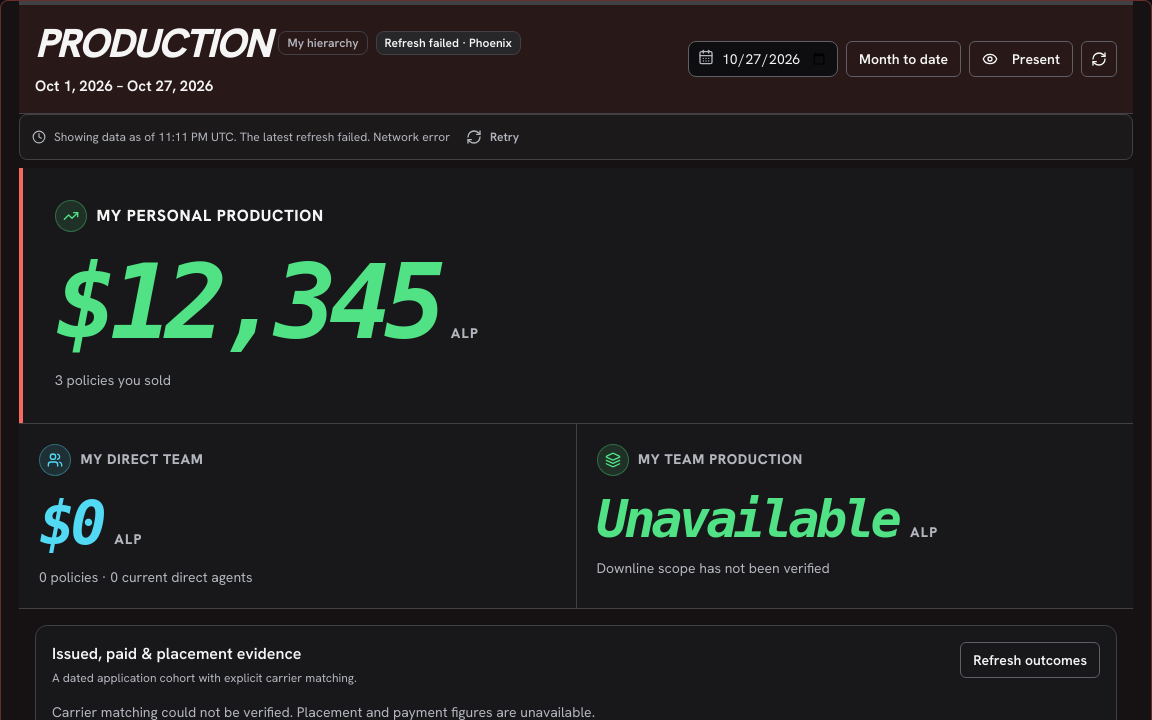
keeps confirmed totals through a failed refresh, labels their age, and recovers on Retry
Expected: the text "Showing data as of" shows "The latest refresh failed", [237, 129, 370, 145]
Expected: the text "$12,345" is shown, [55, 248, 439, 358]
Click the button "Retry" at (493, 137), box [458, 123, 527, 151]
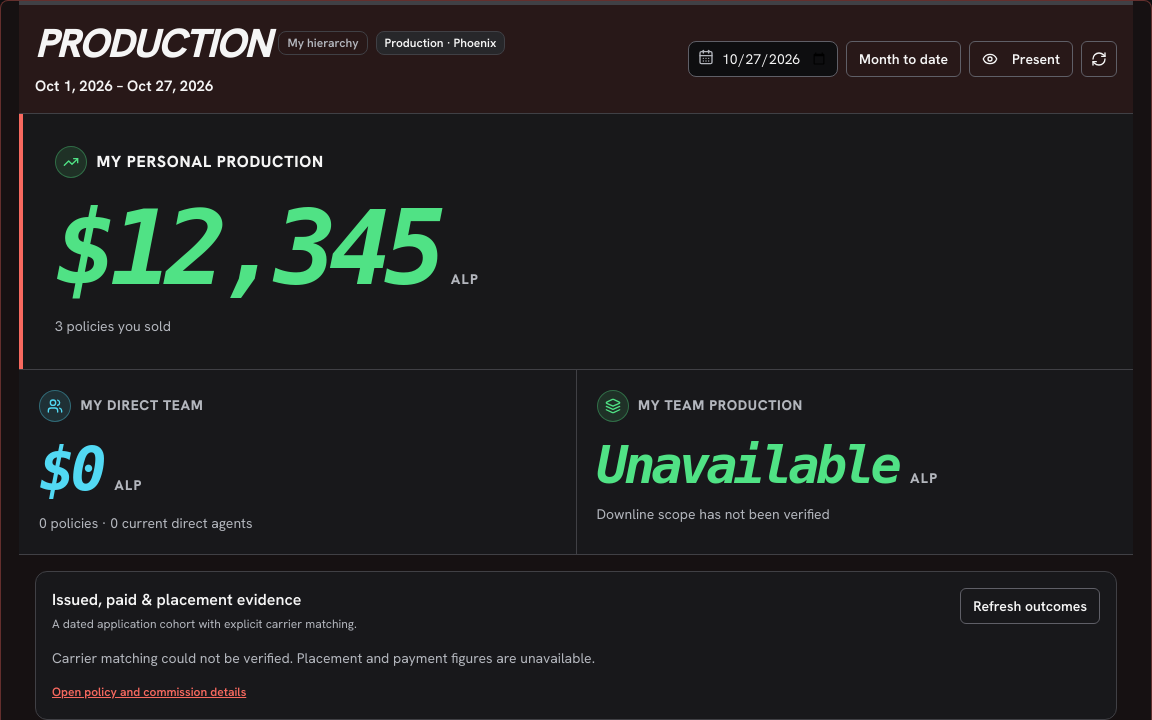
Result: the text "The latest refresh failed" is gone
